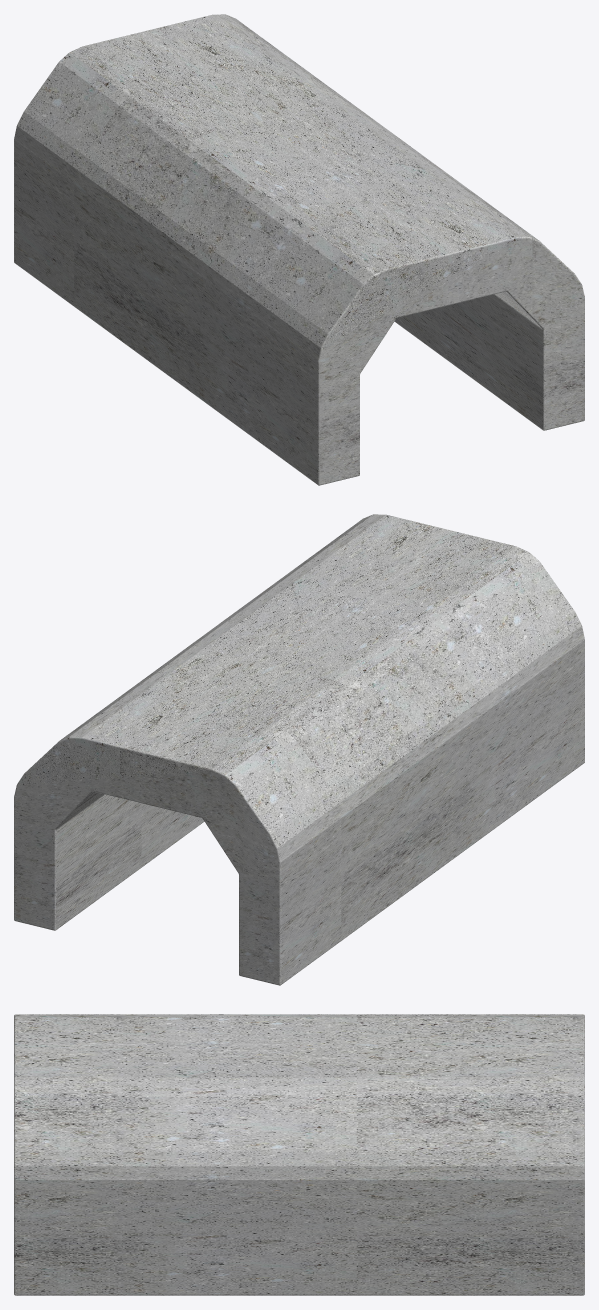
The model's file is Tunnel.fbx.
The picture shows the model from 3 angles, top to bottom: view 1: azimuth 30°, elevation 25°; view 2: azimuth 150°, elevation 25°; view 3: azimuth 270°, elevation 25°; orthographic projection. The views are drawn at different scales.
Parts seen in each view (by area): view 1: Cube; view 2: Cube; view 3: Cube.
Boxes of the visible parts, x1,y1,x2,y2 form: Cube: (14,14,584,485); Cube: (14,514,584,985); Cube: (14,1014,584,1295).
Size of the model in its own units: 1202 by 862 by 2378.
Materials: 1 (1 with a texture image).
